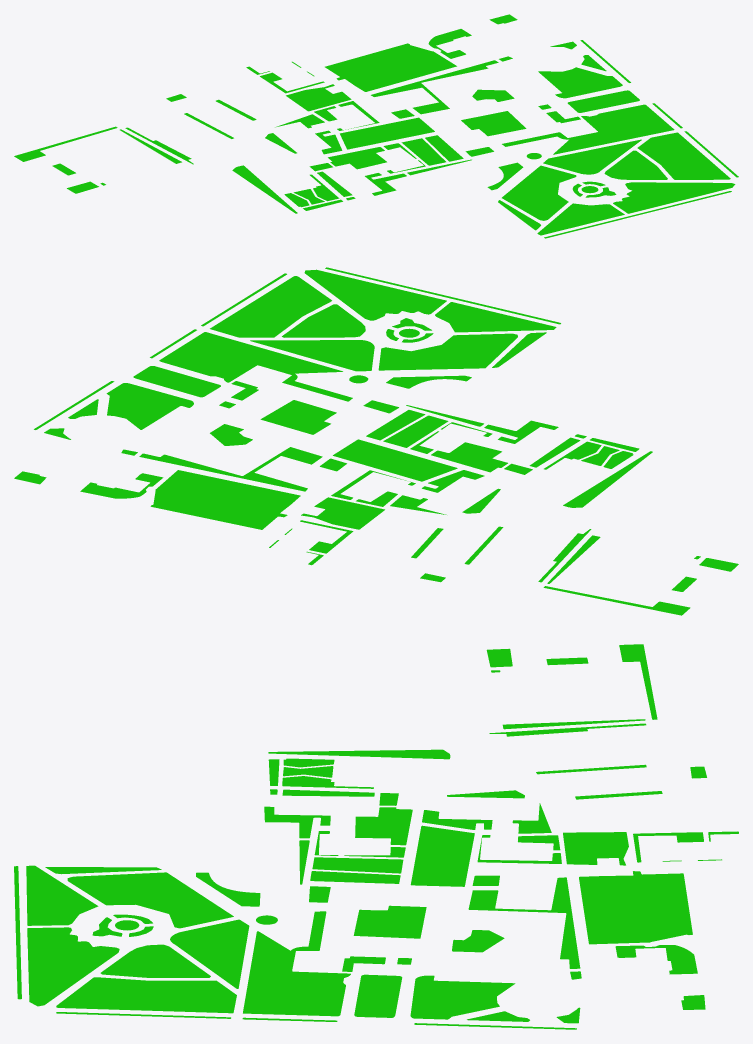
The model's file is Grass.fbx.
3 renders of one model, top to bottom at view 1: azimuth 30°, elevation 25°; view 2: azimuth 150°, elevation 25°; view 3: azimuth 270°, elevation 25°, orthographic. The views are drawn at different scales.
Parts seen in each view (by area): view 1: Curve.064, Curve.048, Curve.003, Curve.009, Curve.005, Curve.026, Curve.018, Curve.002, Curve.010, Curve.004, Curve.019, Curve.049 (+11 smaller); view 2: Curve.064, Curve.048, Curve.003, Curve.009, Curve.005, Curve.026, Curve.018, Curve.002, Curve.010, Curve.004, Curve.019, Curve.049 (+11 smaller); view 3: Curve.064, Curve.048, Curve.003, Curve.009, Curve.005, Curve.026, Curve.018, Curve.002, Curve.010, Curve.004, Curve.049, Curve.019 (+13 smaller).
Boxes of the visible parts, left/top/right/bottom form: Curve.064: left=325, top=43, right=456, bottom=91; Curve.048: left=502, top=104, right=674, bottom=154; Curve.003: left=637, top=132, right=730, bottom=179; Curve.009: left=502, top=165, right=576, bottom=220; Curve.005: left=613, top=182, right=735, bottom=213; Curve.026: left=340, top=117, right=434, bottom=149; Curve.018: left=538, top=67, right=622, bottom=98; Curve.002: left=543, top=139, right=641, bottom=174; Curve.010: left=537, top=203, right=624, bottom=235; Curve.004: left=604, top=150, right=667, bottom=179; Curve.019: left=371, top=60, right=498, bottom=114; Curve.049: left=461, top=111, right=526, bottom=136; Curve.064: left=150, top=470, right=300, bottom=529; Curve.048: left=159, top=332, right=352, bottom=401; Curve.003: left=210, top=276, right=331, bottom=337; Curve.009: left=378, top=333, right=517, bottom=370; Curve.005: left=304, top=269, right=446, bottom=320; Curve.026: left=333, top=439, right=457, bottom=481; Curve.018: left=106, top=383, right=193, bottom=429; Curve.002: left=250, top=340, right=374, bottom=371; Curve.010: left=435, top=302, right=556, bottom=332; Curve.004: left=282, top=304, right=365, bottom=337; Curve.019: left=139, top=447, right=322, bottom=491; Curve.049: left=260, top=400, right=336, bottom=434; Curve.064: left=579, top=871, right=692, bottom=944; Curve.048: left=243, top=911, right=350, bottom=1016; Curve.003: left=56, top=977, right=236, bottom=1013; Curve.009: left=67, top=872, right=233, bottom=928; Curve.005: left=27, top=927, right=119, bottom=1006; Curve.026: left=410, top=825, right=474, bottom=886; Curve.018: left=410, top=975, right=515, bottom=1019; Curve.002: left=170, top=919, right=249, bottom=988; Curve.010: left=26, top=865, right=98, bottom=925; Curve.004: left=100, top=944, right=210, bottom=977; Curve.049: left=353, top=905, right=426, bottom=938; Curve.019: left=468, top=877, right=580, bottom=968.
Bounding box in the file's own units: 740 × 0 × 588.
